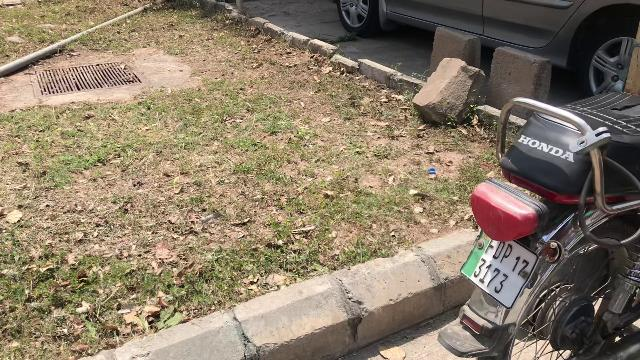plate: (455, 218, 541, 310)
